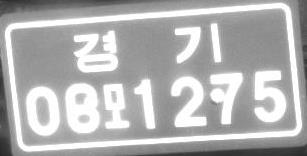0: (24, 84, 60, 137)
1: (132, 78, 159, 130)
2: (169, 75, 207, 128)
5: (252, 69, 287, 123)
7: (209, 71, 244, 125)
8: (63, 82, 100, 134)
경기_D: (72, 22, 222, 73)
모: (102, 82, 130, 130)
